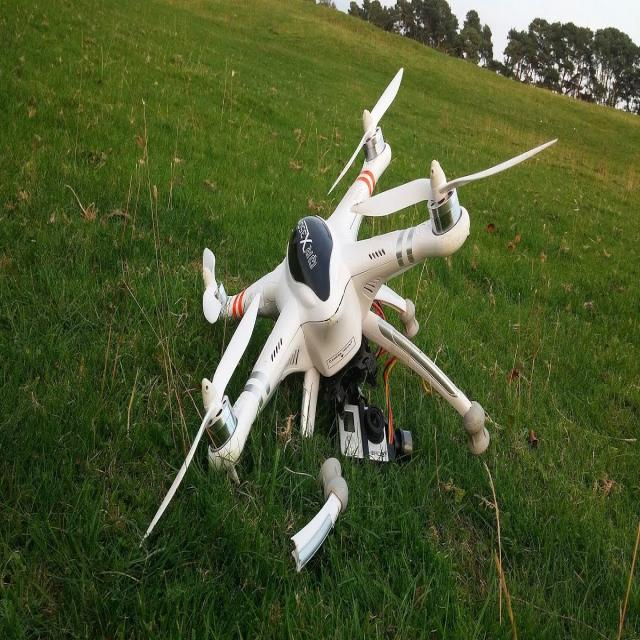drone: (137, 58, 563, 574)
